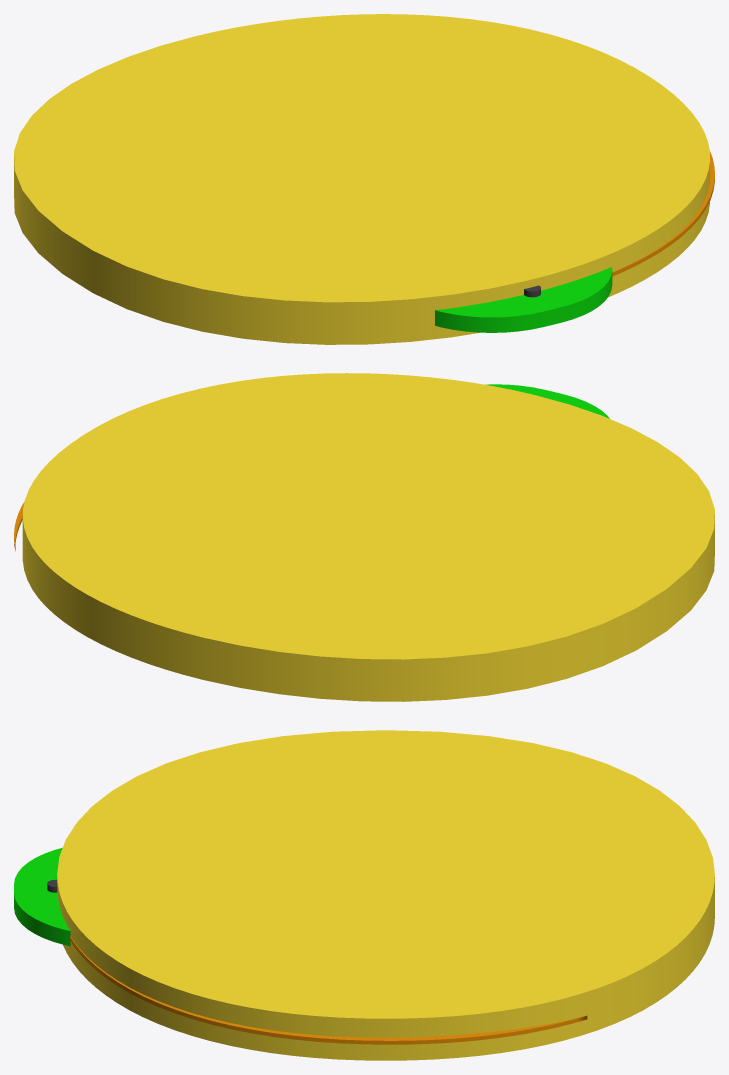
Rendered from emoji_u1f911.glb.
3 renders of one model, top to bottom at view 1: azimuth 30°, elevation 25°; view 2: azimuth 150°, elevation 25°; view 3: azimuth 270°, elevation 25°, orthographic.
Parts seen in each view (by area): view 1: emoji_u1f911; view 2: emoji_u1f911; view 3: emoji_u1f911.
Boxes of the visible parts, <box> form: emoji_u1f911: <box>14,14,714,344</box>; emoji_u1f911: <box>14,373,714,701</box>; emoji_u1f911: <box>14,730,714,1060</box>.
Bounding box in the file's own units: 0.0328 × 0.0022 × 0.0333.
